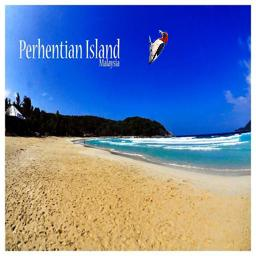Woodpecker: (149, 30, 168, 65)
